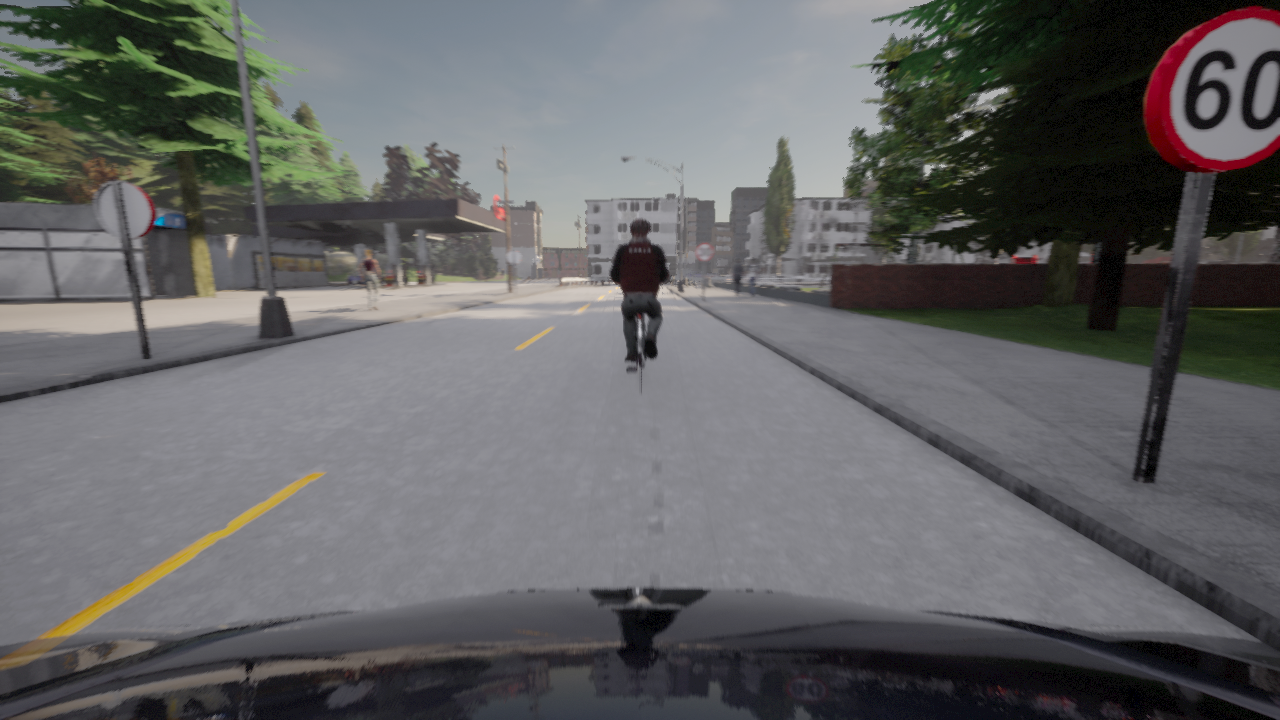cyclist: (0, 588, 1279, 719), (627, 313, 645, 393), (347, 269, 384, 286), (686, 271, 702, 276), (659, 279, 672, 284), (705, 272, 721, 276), (641, 313, 643, 314), (618, 283, 620, 284)
pedestrian: (359, 249, 379, 310), (732, 258, 744, 295), (746, 258, 757, 297)
